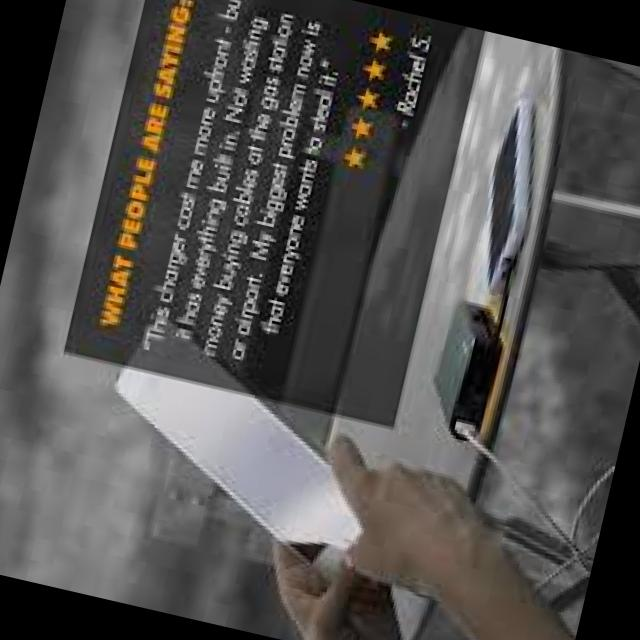power_bank: (416, 290, 518, 442)
